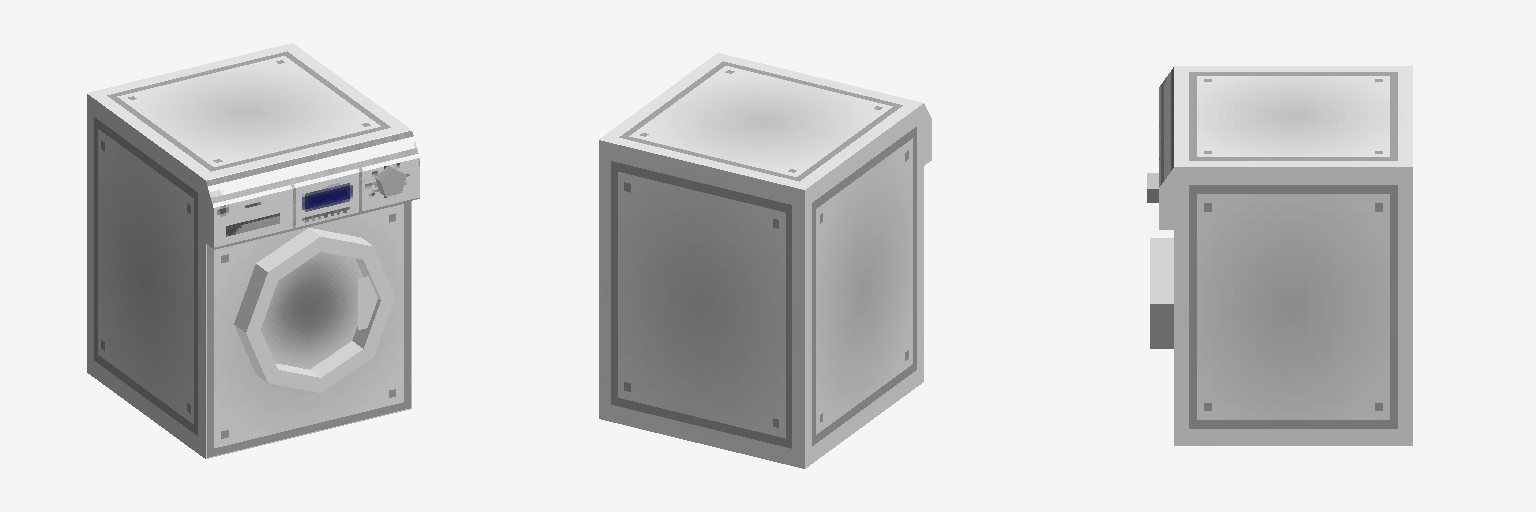
3 renders of one model, left to right at view 1: azimuth 30°, elevation 25°; view 2: azimuth 150°, elevation 25°; view 3: azimuth 270°, elevation 25°, orthographic.
Parts seen in each view (by area): view 1: washing_machine_1; view 2: washing_machine_1; view 3: washing_machine_1.
Boxes of the visible parts, x1,y1,x2,y2 form: washing_machine_1: [87, 43, 419, 458]; washing_machine_1: [599, 53, 931, 468]; washing_machine_1: [1147, 66, 1412, 445].
Bounding box in the file's own units: 2 × 2.58 × 2.23.
Materials: 4 (3 with a texture image).